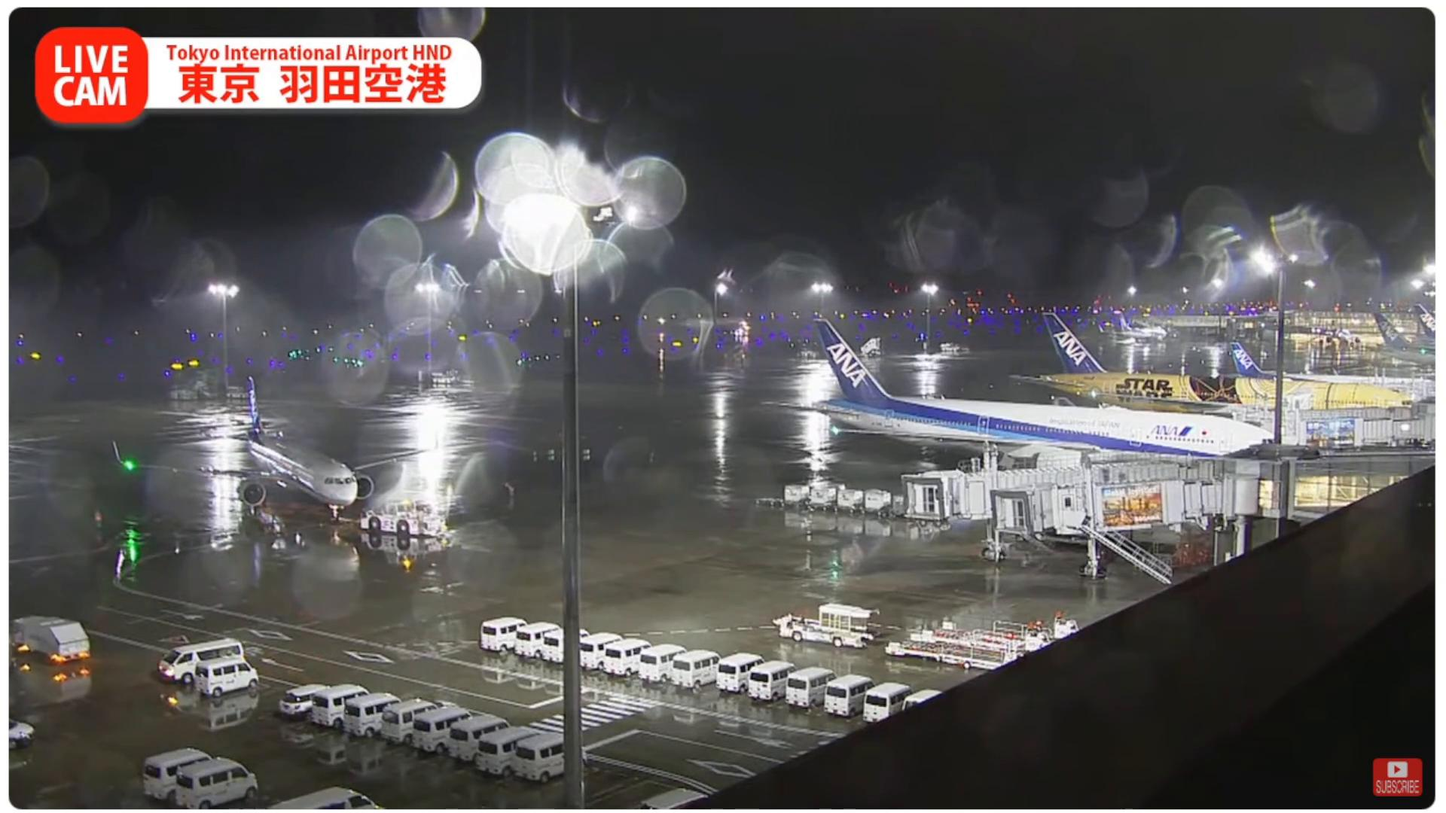APS: (361, 495, 450, 536)
Aerobridge: (898, 461, 1193, 525), (988, 473, 1227, 539)
Airplane: (111, 375, 432, 525)
Baggage truck: (10, 613, 91, 664)
Dolly: (775, 479, 889, 520)
JCPL: (914, 617, 1081, 654), (884, 636, 1033, 667)
Skyloader: (771, 602, 883, 649)
Window: (1289, 476, 1414, 509)
